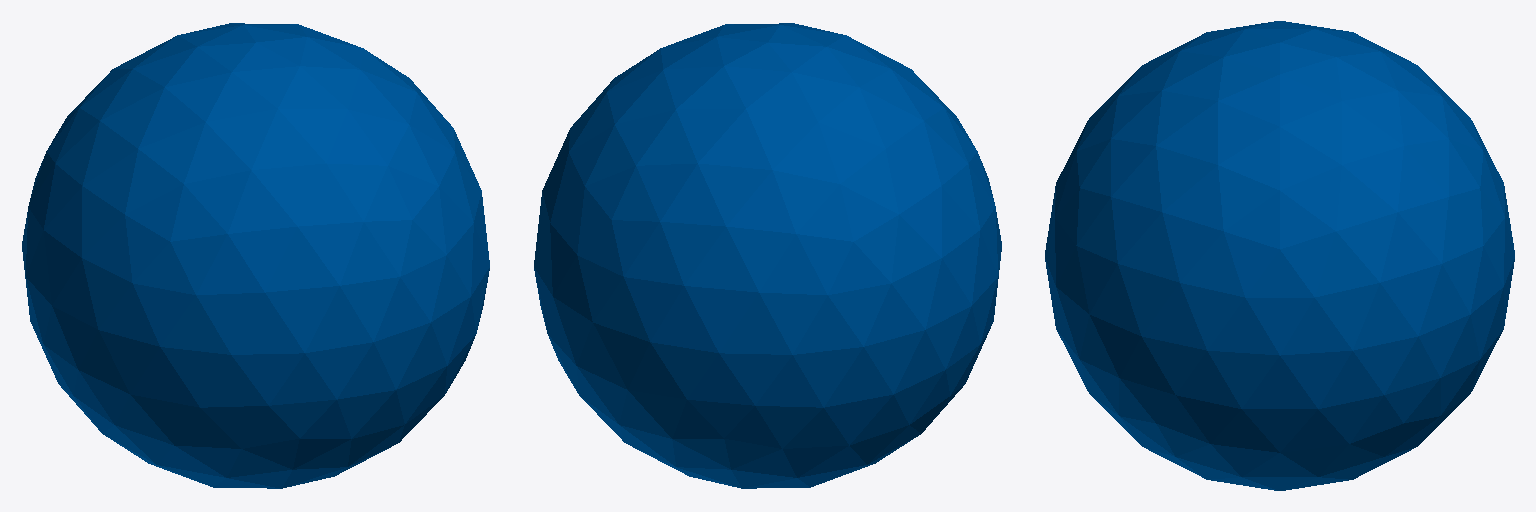
Rendered from icospherehires.obj.
The picture shows the model from 3 angles: view 1: azimuth 30°, elevation 25°; view 2: azimuth 150°, elevation 25°; view 3: azimuth 270°, elevation 25°; orthographic projection.
Parts seen in each view (by area): view 1: Icosphere; view 2: Icosphere; view 3: Icosphere.
Part boxes in pixels (bbox=[...]): Icosphere: bbox=[22, 23, 489, 488]; Icosphere: bbox=[534, 23, 1001, 488]; Icosphere: bbox=[1045, 21, 1514, 490].
Size of the model in its own units: 2 by 2 by 2.